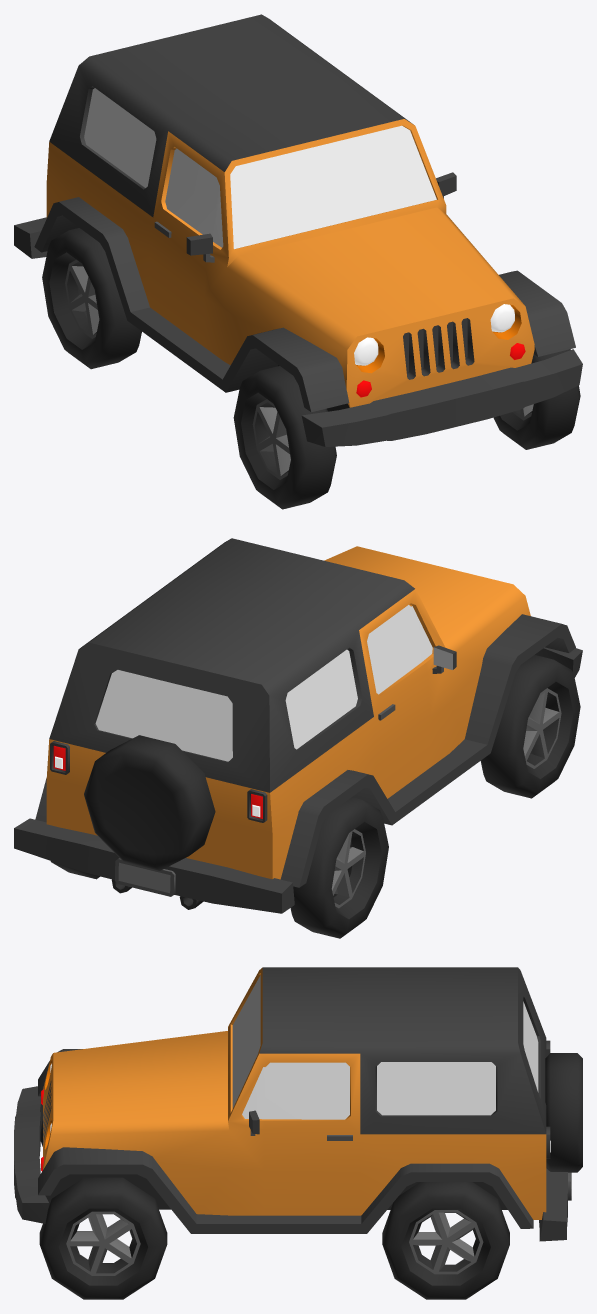
File: jeep.glb
3 renders of one model, top to bottom at view 1: azimuth 30°, elevation 25°; view 2: azimuth 150°, elevation 25°; view 3: azimuth 270°, elevation 25°, orthographic. The views are drawn at different scales.
Parts seen in each view (by area): view 1: jeep, wheels.016, wheels.017, wheels.042; view 2: jeep, wheels.016, wheels.017; view 3: jeep, wheels.042, wheels.043.
Boxes of the visible parts, x1=… form: jeep: x1=14, y1=14, x2=582, y2=446; wheels.016: x1=233, y1=366, x2=336, y2=509; wheels.017: x1=42, y1=228, x2=141, y2=369; wheels.042: x1=493, y1=349, x2=580, y2=449; jeep: x1=14, y1=538, x2=582, y2=913; wheels.016: x1=480, y1=655, x2=580, y2=798; wheels.017: x1=290, y1=797, x2=388, y2=938; jeep: x1=14, y1=967, x2=582, y2=1241; wheels.042: x1=39, y1=1177, x2=167, y2=1299; wheels.043: x1=382, y1=1182, x2=509, y2=1299.
Size of the model in its own units: 2.28 by 2.03 by 4.45.
3 materials, 2 textured.
